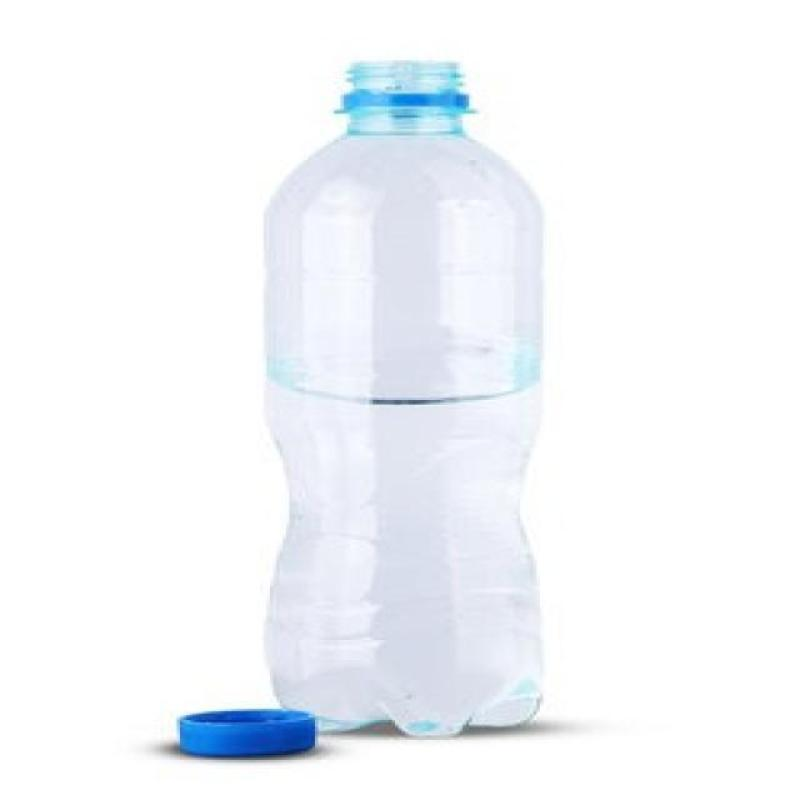botella: (263, 53, 549, 738)
